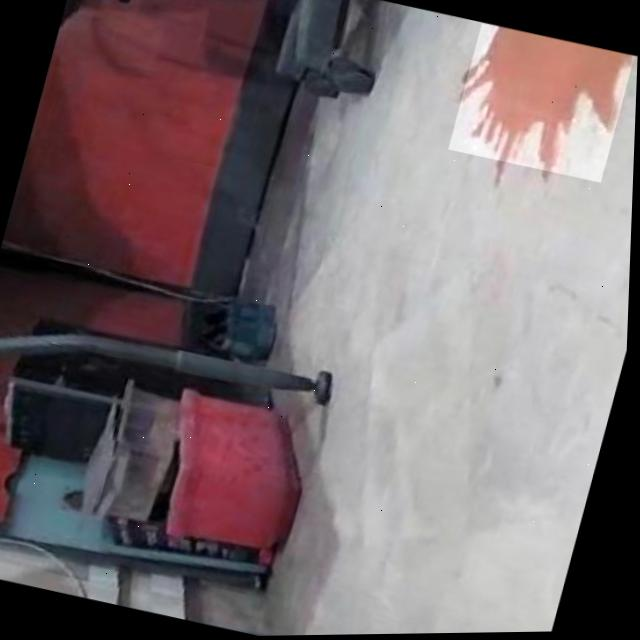spillage: (463, 26, 630, 173)
